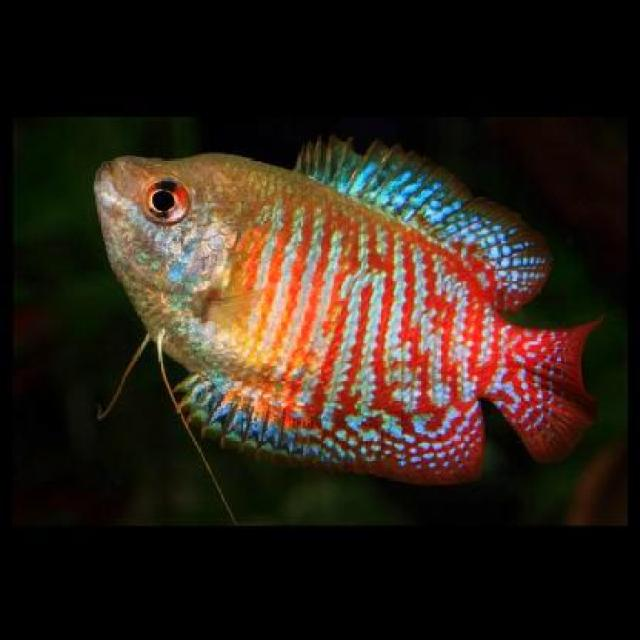Gourami: (87, 132, 596, 477)
